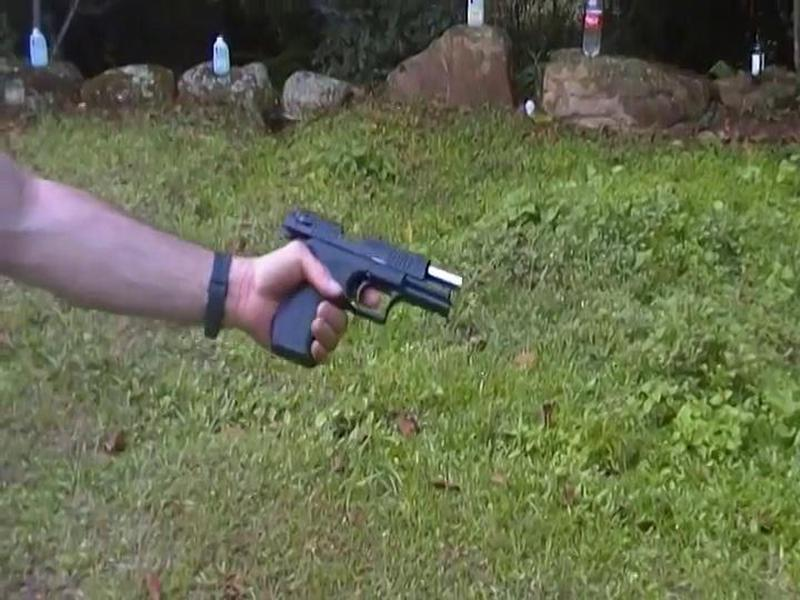Pistola: (257, 203, 466, 364)
